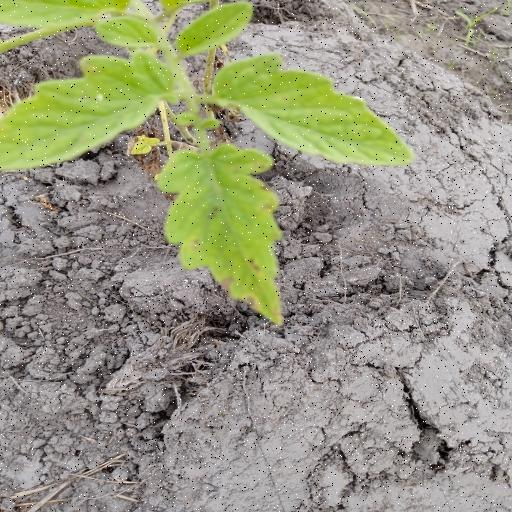Tomato_Brown_Spots: (212, 52, 417, 172), (161, 146, 294, 326), (0, 52, 189, 172)
